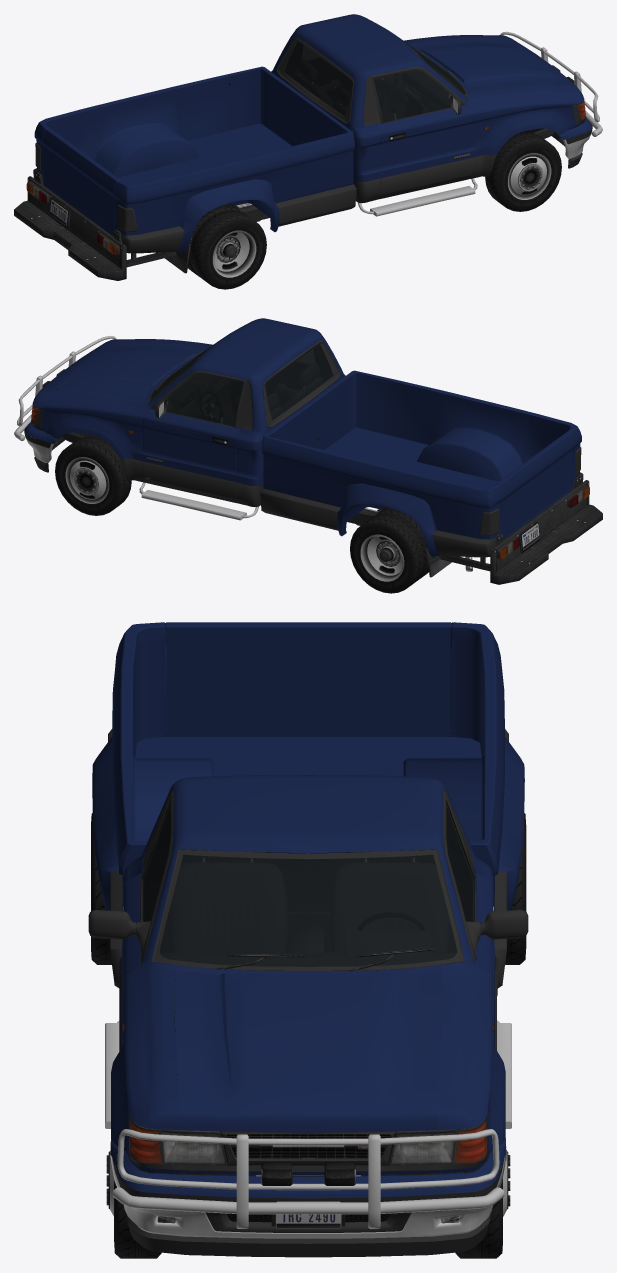
Rendered from PickUpWithoutBagaznic.glb.
3 renders of one model, top to bottom at view 1: azimuth 30°, elevation 25°; view 2: azimuth 150°, elevation 25°; view 3: azimuth 270°, elevation 25°, orthographic. The views are drawn at different scales.
Parts seen in each view (by area): view 1: UTLTRUCK90_Truckbed_UTLTRUCK90_Bodymat_0, UTLTRUCK90_Body_UTLTRUCK90_Bodymat_0, UTLTRUCK90_bottom_UCB_BOTTOM_0, UTLTRUCK90_Hood_UTLTRUCK90_Bodymat_0, UTLTRUCK90_Interior_UCB_Interiors_1_0, UTLTRUCK90_WheelStock_RR_RB1c_Tire_1k_0, UTLTRUCK90_Bumper_rear_UCB_BOTTOM_0, UTLTRUCK90_WheelStock_FR_RB1c_Tire_1k_0, UTLTRUCK90_Truckbed_UTLTRUCK90_Bodymat_0.001, UTLTRUCK90_Truckbed_Trim_UCB_BOTTOM_0, UTLTRUCK90_Glass_Passenger_UCB_Lights_and_Glass_Transperent_, UTLTRUCK90_Glass_Rear_UCB_Lights_and_Glass_Transperent_0 (+4 smaller); view 2: UTLTRUCK90_Truckbed_UTLTRUCK90_Bodymat_0, UTLTRUCK90_Body_UTLTRUCK90_Bodymat_0, UTLTRUCK90_bottom_UCB_BOTTOM_0, UTLTRUCK90_Hood_UTLTRUCK90_Bodymat_0, UTLTRUCK90_WheelStock_RL_RB1c_Tire_1k_0, UTLTRUCK90_Interior_UCB_Interiors_1_0, UTLTRUCK90_Bumper_rear_UCB_BOTTOM_0, UTLTRUCK90_WheelStock_FL_RB1c_Tire_1k_0, UTLTRUCK90_Truckbed_UTLTRUCK90_Bodymat_0.001, UTLTRUCK90_Truckbed_Trim_UCB_BOTTOM_0, UTLTRUCK90_Glass_Driver_UCB_Lights_and_Glass_Transperent_0, UTLTRUCK90_Glass_Rear_UCB_Lights_and_Glass_Transperent_0 (+4 smaller); view 3: UTLTRUCK90_Body_UTLTRUCK90_Bodymat_0, UTLTRUCK90_Hood_UTLTRUCK90_Bodymat_0, UTLTRUCK90_Truckbed_UTLTRUCK90_Bodymat_0, UTLTRUCK90_Truckbed_UTLTRUCK90_Bodymat_0.001, UTLTRUCK90_Interior_UCB_Interiors_1_0, UTLTRUCK90_Windshield_UCB_Lights_and_Glass_Transperent_0, UTLTRUCK90_bottom_UCB_BOTTOM_0, UTLTRUCK90_Bumper_front_inner_UCB_BOTTOM_0, UTLTRUCK90_Bullbar_B_UCB_BOTTOM_0, UTLTRUCK90_Bumper_Front_UTLTRUCK90_Bodymat_0, UTLTRUCK90_Headlights_Glass_UCB_Lights_and_Glass_Transperent, UTLTRUCK90_Headlights_UCB_Lights_and_Glass_0 (+9 smaller).
Boxes of the visible parts, x1,y1,x2,y2 form: UTLTRUCK90_Truckbed_UTLTRUCK90_Bodymat_0: (34,66,355,252); UTLTRUCK90_Body_UTLTRUCK90_Bodymat_0: (271,14,584,182); UTLTRUCK90_bottom_UCB_BOTTOM_0: (165,37,585,273); UTLTRUCK90_Hood_UTLTRUCK90_Bodymat_0: (408,37,575,92); UTLTRUCK90_Interior_UCB_Interiors_1_0: (284,36,463,164); UTLTRUCK90_WheelStock_RR_RB1c_Tire_1k_0: (187,203,266,289); UTLTRUCK90_Bumper_rear_UCB_BOTTOM_0: (14,172,126,280); UTLTRUCK90_WheelStock_FR_RB1c_Tire_1k_0: (485,132,561,211); UTLTRUCK90_Truckbed_UTLTRUCK90_Bodymat_0.001: (42,128,120,235); UTLTRUCK90_Truckbed_Trim_UCB_BOTTOM_0: (33,83,356,267); UTLTRUCK90_Glass_Passenger_UCB_Lights_and_Glass_Transperent_: (373,70,449,122); UTLTRUCK90_Glass_Rear_UCB_Lights_and_Glass_Transperent_0: (284,41,351,116); UTLTRUCK90_Truckbed_UTLTRUCK90_Bodymat_0: (261,370,581,556); UTLTRUCK90_Body_UTLTRUCK90_Bodymat_0: (32,318,345,485); UTLTRUCK90_bottom_UCB_BOTTOM_0: (31,340,472,577); UTLTRUCK90_Hood_UTLTRUCK90_Bodymat_0: (41,341,208,396); UTLTRUCK90_WheelStock_RL_RB1c_Tire_1k_0: (350,507,428,593); UTLTRUCK90_Interior_UCB_Interiors_1_0: (150,346,331,485); UTLTRUCK90_Bumper_rear_UCB_BOTTOM_0: (490,475,602,584); UTLTRUCK90_WheelStock_FL_RB1c_Tire_1k_0: (55,436,131,515); UTLTRUCK90_Truckbed_UTLTRUCK90_Bodymat_0.001: (496,432,573,538); UTLTRUCK90_Truckbed_Trim_UCB_BOTTOM_0: (260,438,583,571); UTLTRUCK90_Glass_Driver_UCB_Lights_and_Glass_Transperent_0: (167,374,243,426); UTLTRUCK90_Glass_Rear_UCB_Lights_and_Glass_Transperent_0: (265,345,332,420); UTLTRUCK90_Body_UTLTRUCK90_Bodymat_0: (111,775,505,1174); UTLTRUCK90_Hood_UTLTRUCK90_Bodymat_0: (174,971,442,1132); UTLTRUCK90_Truckbed_UTLTRUCK90_Bodymat_0: (92,622,524,940); UTLTRUCK90_Truckbed_UTLTRUCK90_Bodymat_0.001: (166,622,450,736); UTLTRUCK90_Interior_UCB_Interiors_1_0: (145,811,471,1007); UTLTRUCK90_Windshield_UCB_Lights_and_Glass_Transperent_0: (159,854,457,966); UTLTRUCK90_bottom_UCB_BOTTOM_0: (88,787,528,1176); UTLTRUCK90_Bumper_front_inner_UCB_BOTTOM_0: (110,1154,506,1257); UTLTRUCK90_Bullbar_B_UCB_BOTTOM_0: (112,1129,504,1228); UTLTRUCK90_Bumper_Front_UTLTRUCK90_Bodymat_0: (110,1139,506,1198); UTLTRUCK90_Headlights_Glass_UCB_Lights_and_Glass_Transperent: (129,1120,486,1164); UTLTRUCK90_Headlights_UCB_Lights_and_Glass_0: (162,1131,455,1164).
Size of the model in its own units: 5.36 by 1.66 by 2.
8 materials, 7 textured.
